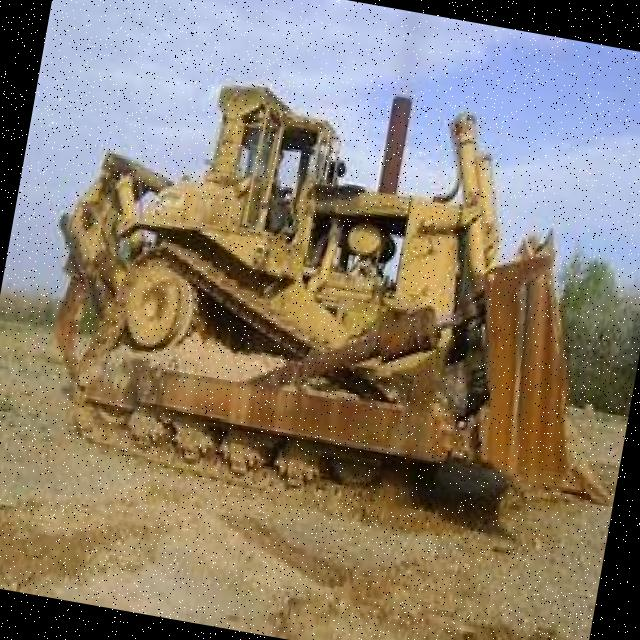Bulldozer: (13, 25, 640, 575)
